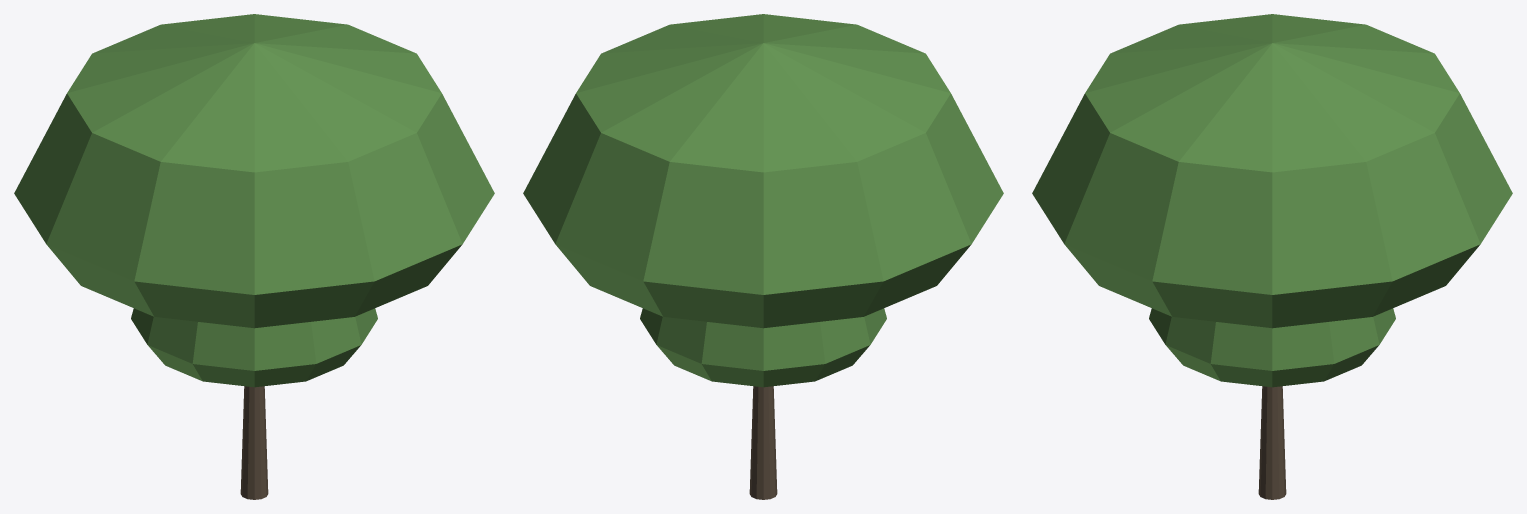
The model's file is tree3.dae.
3 views of the same model, side by side, from view 1: azimuth 30°, elevation 25°; view 2: azimuth 150°, elevation 25°; view 3: azimuth 270°, elevation 25° (orthographic).
Parts seen in each view (by area): view 1: mesh; view 2: mesh; view 3: mesh.
Boxes of the visible parts, x1,y1,x2,y2 form: mesh: [14, 14, 494, 499]; mesh: [523, 14, 1003, 499]; mesh: [1032, 14, 1512, 499].
Size of the model in its own units: 17.39 by 17.39 by 18.
